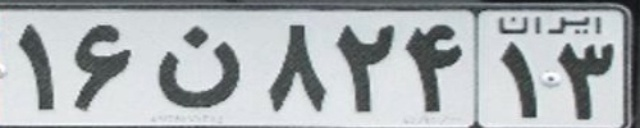1: (18, 23, 53, 110), (498, 41, 536, 118)
2: (336, 23, 394, 111)
3: (555, 41, 613, 118)
4: (403, 24, 461, 112)
6: (72, 22, 131, 109)
8: (266, 24, 325, 110)
non: (153, 24, 241, 108)
